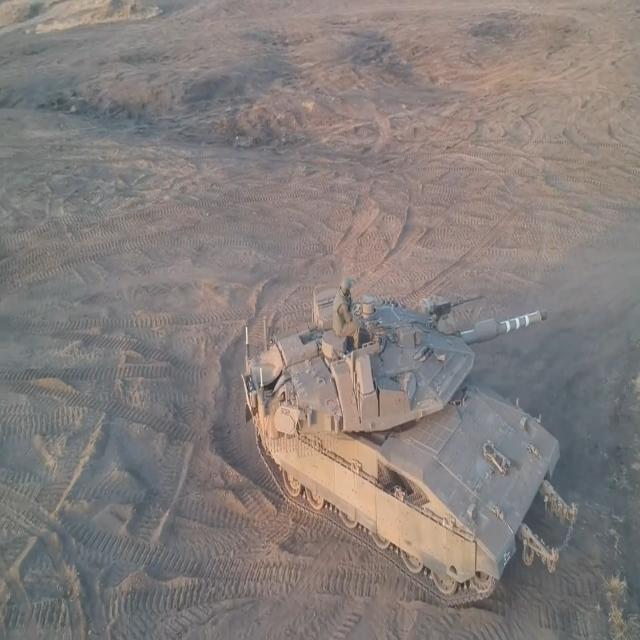tank: (228, 296, 577, 612)
